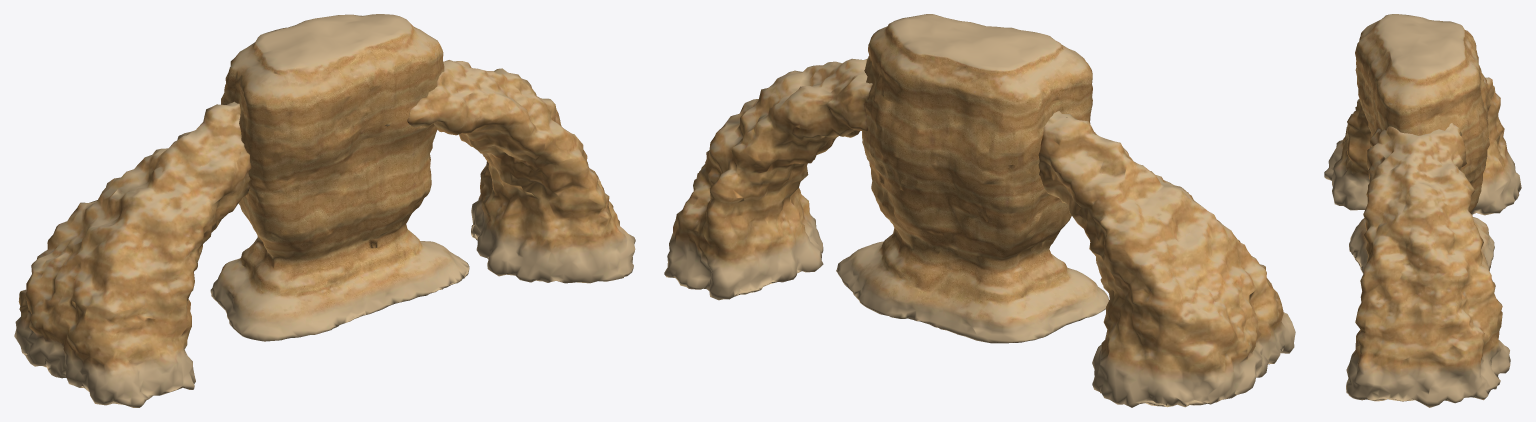
File: roches.glb
3 views of the same model, side by side, from view 1: azimuth 30°, elevation 25°; view 2: azimuth 150°, elevation 25°; view 3: azimuth 270°, elevation 25° (orthographic). The views are drawn at different scales.
Visible parts, largest first — view 1: arche, cheminee_tour; view 2: arche, cheminee_tour; view 3: arche, cheminee_tour.
Boxes of the visible parts, box(x1,y1,x2,y2) form: arche: box(14, 60, 635, 407); cheminee_tour: box(210, 14, 469, 341); arche: box(664, 58, 1295, 407); cheminee_tour: box(836, 14, 1109, 343); arche: box(1324, 73, 1521, 407); cheminee_tour: box(1349, 14, 1494, 280).
Size of the model in its own units: 100 by 47.91 by 33.93.
8 materials, 8 textured.
